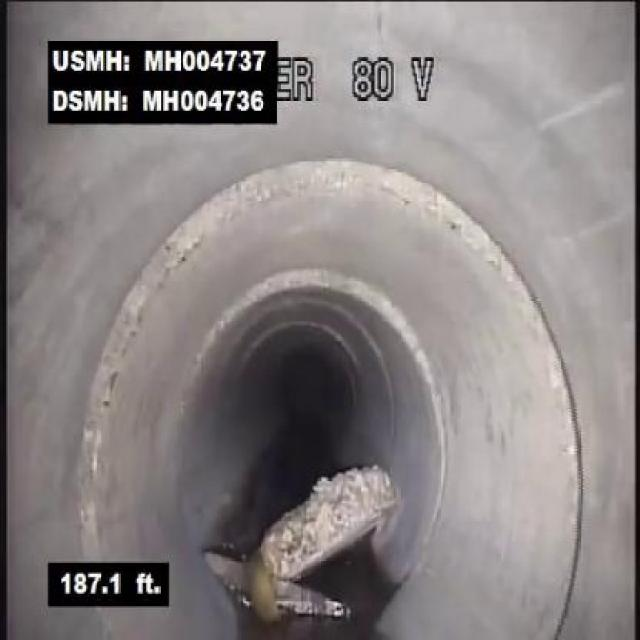Obstacle: (204, 445, 424, 620)
